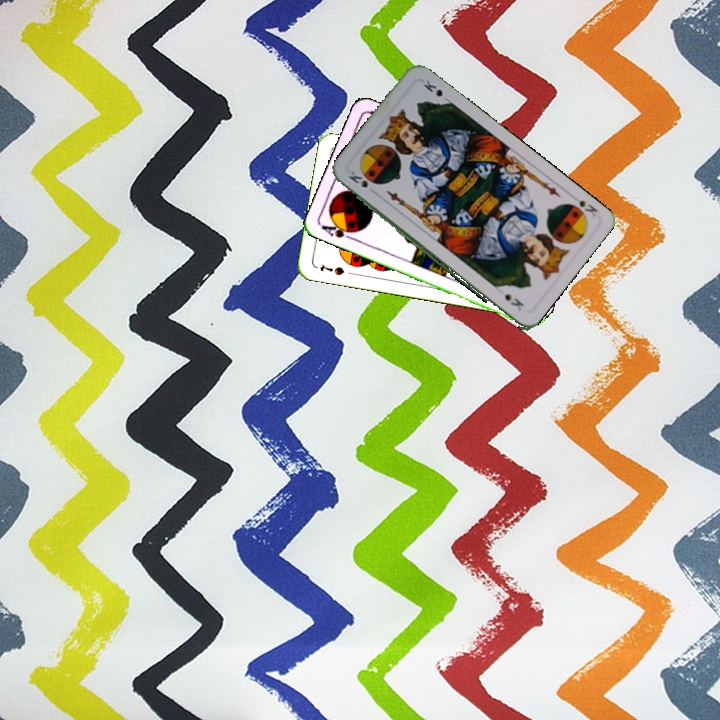S7: (316, 260, 347, 278)
SA: (317, 217, 359, 243)
SK: (567, 190, 600, 219), (344, 167, 371, 190)
